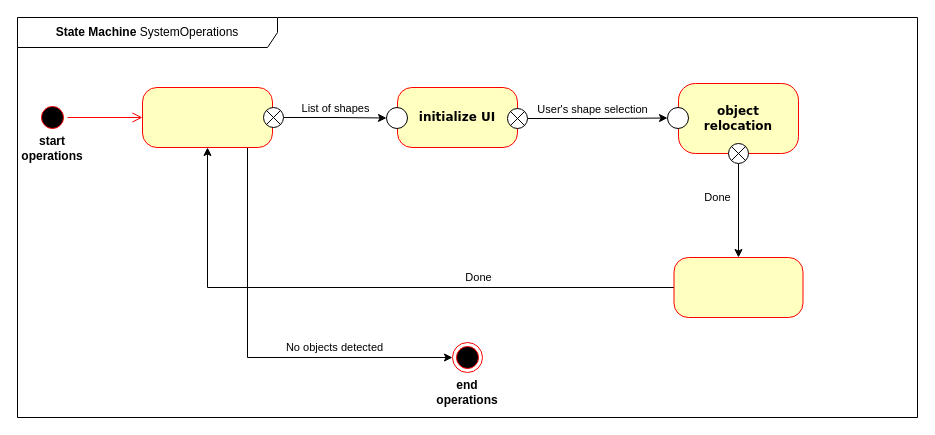
Image size: 935x435. Some labels were removed from this diagram. The centre of each missing label's shape, as x and y in pixels:
check loading area: point 207,117
move conveyor: point 738,287
